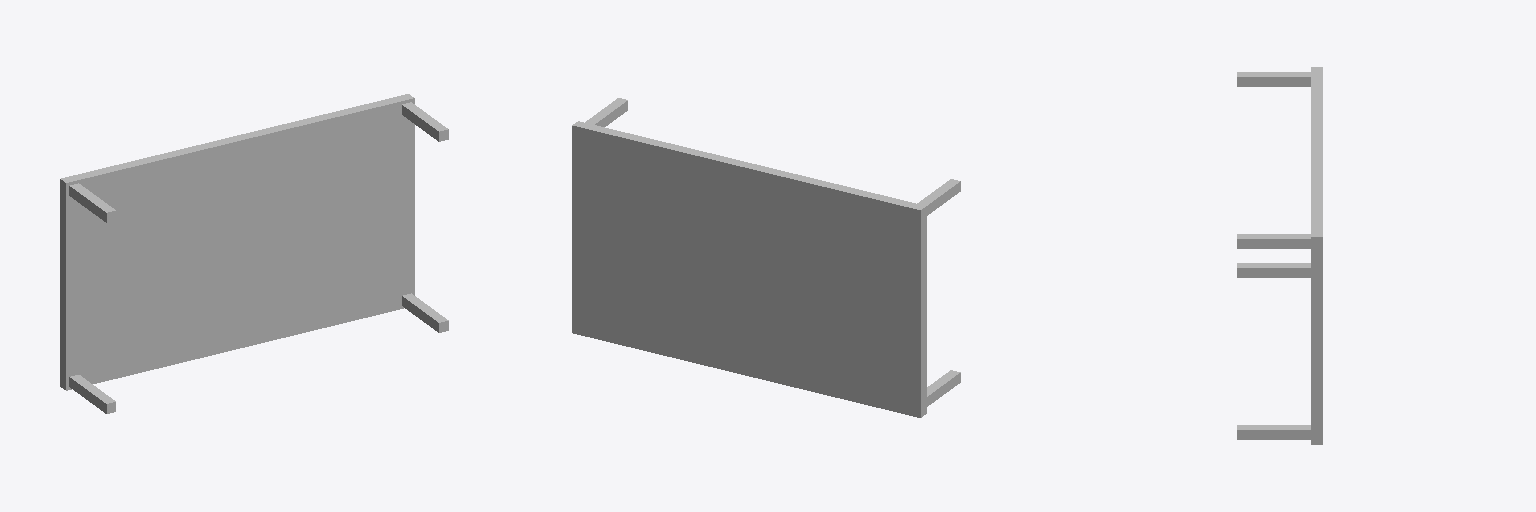
Rendered from random_table52.obj.
3 views of the same model, side by side, from view 1: azimuth 30°, elevation 25°; view 2: azimuth 150°, elevation 25°; view 3: azimuth 270°, elevation 25° (orthographic).
Parts seen in each view (by area): view 1: Table_Cube.1325, TableLeg0_Cube.1326, TableLeg1_Cube.1327, TableLeg2_Cube.1328, TableLeg3_Cube.1329; view 2: Table_Cube.1325, TableLeg1_Cube.1327, TableLeg3_Cube.1329, TableLeg0_Cube.1326; view 3: Table_Cube.1325, TableLeg0_Cube.1326, TableLeg1_Cube.1327, TableLeg2_Cube.1328, TableLeg3_Cube.1329.
Part boxes in pixels (bbox=[...]): Table_Cube.1325: bbox=[60, 94, 414, 390]; TableLeg0_Cube.1326: bbox=[402, 102, 448, 141]; TableLeg1_Cube.1327: bbox=[69, 183, 115, 222]; TableLeg2_Cube.1328: bbox=[402, 293, 448, 332]; TableLeg3_Cube.1329: bbox=[69, 375, 115, 413]; Table_Cube.1325: bbox=[572, 121, 926, 417]; TableLeg1_Cube.1327: bbox=[917, 179, 960, 215]; TableLeg3_Cube.1329: bbox=[927, 370, 960, 406]; TableLeg0_Cube.1326: bbox=[585, 98, 627, 126]; Table_Cube.1325: bbox=[1311, 67, 1322, 444]; TableLeg0_Cube.1326: bbox=[1237, 234, 1310, 248]; TableLeg1_Cube.1327: bbox=[1237, 72, 1310, 86]; TableLeg2_Cube.1328: bbox=[1237, 425, 1310, 439]; TableLeg3_Cube.1329: bbox=[1237, 263, 1310, 277].
Bounding box in the file's own units: 13.92 × 7.93 × 3.